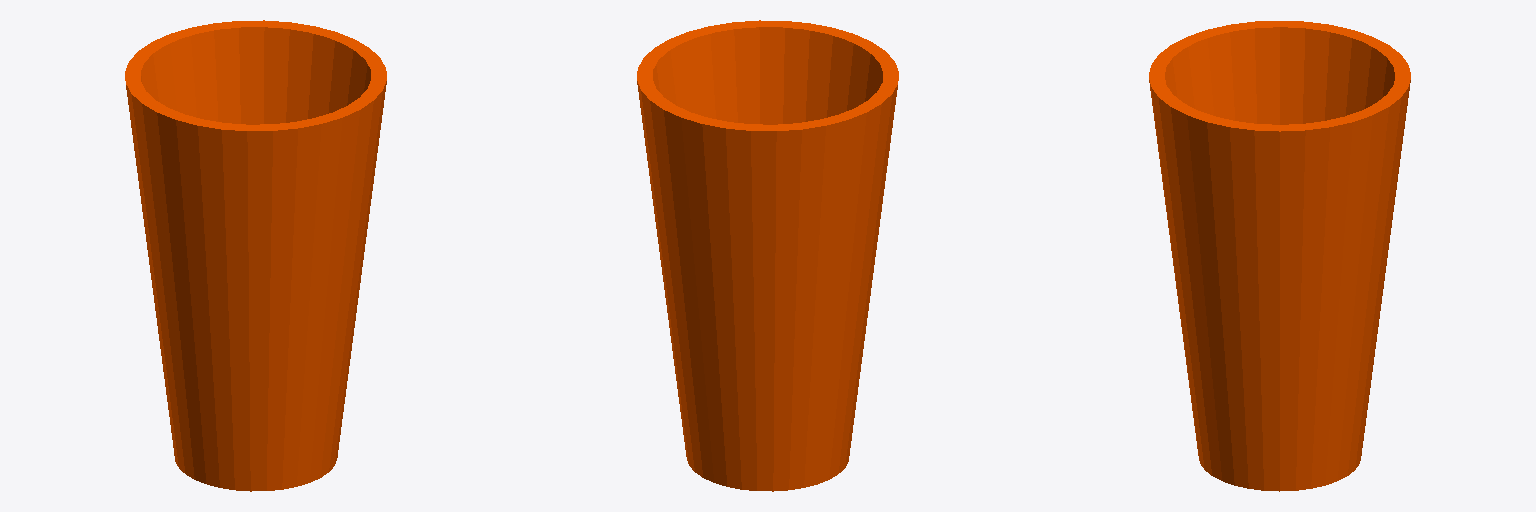
URDF robot description (orange_cup):
<?xml version="1.0"?>
<robot name="orange_cup">
<link name="orange_cup">
    <visual>
      <geometry>
        <mesh filename="package://laas_objects/res/obj/orange_cup.obj"/>
      </geometry>
      <origin rpy="1.57075 0 0" xyz="0 0 0"/>
      <material name="orange">
        <color rgba="1 .4 0 1"/>
      </material>
    </visual>
    <collision>
      <geometry>
        <mesh filename="package://laas_objects/res/obj/orange_cup.obj"/>
      </geometry>
      <origin rpy="1.57075 0 0" xyz="0 0 0"/>
      <contact_coefficients mu="1000.0" kp="0.00" kd="0.0"/>
    </collision>
    <inertial>
      <mass value="0.15"/>
      <inertia ixx="0.000378125" ixy="0.0" ixz="0.0" iyy="0.000378125" iyz="0.0" izz="0.000378125"/>
    </inertial>
</link>
</robot>

--- Facts derived from the render (not from the file) ---
Views: 3 orthographic renders of the robot side by side, from view 1: azimuth 30°, elevation 25°; view 2: azimuth 150°, elevation 25°; view 3: azimuth 270°, elevation 25°.
Model orange_cup with 1 links and 0 joints (none), rooted at orange_cup, posed all joints at 0.
Visible links, largest first — view 1: orange_cup; view 2: orange_cup; view 3: orange_cup.
Link boxes in pixels (x1,y1,x2,y2): orange_cup: (125, 20, 386, 491); orange_cup: (637, 20, 898, 491); orange_cup: (1149, 21, 1410, 491).
Size in the robot's own frame: 0.075 by 0.075 by 0.12 metres.
Meshes: 1 distinct files referenced, 1 mesh visuals loaded (1 OBJ).